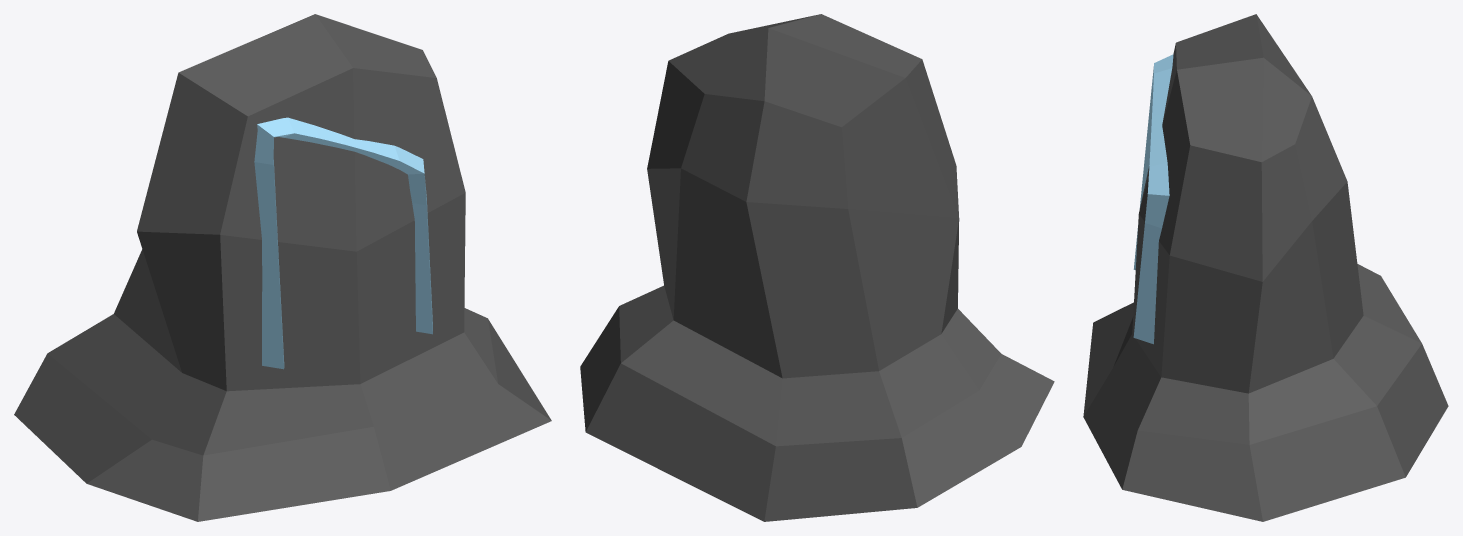
Rendered from Rune_Urus.fbx.
3 renders of one model, left to right at view 1: azimuth 30°, elevation 25°; view 2: azimuth 150°, elevation 25°; view 3: azimuth 270°, elevation 25°, orthographic. The views are drawn at different scales.
Parts seen in each view (by area): view 1: Urus(Strenght)_Cylinder; view 2: Urus(Strenght)_Cylinder; view 3: Urus(Strenght)_Cylinder.
Boxes of the visible parts, x1,y1,x2,y2 form: Urus(Strenght)_Cylinder: [14, 14, 551, 521]; Urus(Strenght)_Cylinder: [580, 14, 1054, 521]; Urus(Strenght)_Cylinder: [1083, 14, 1448, 521].
Bounding box in the file's own units: 309 × 280 × 237.
